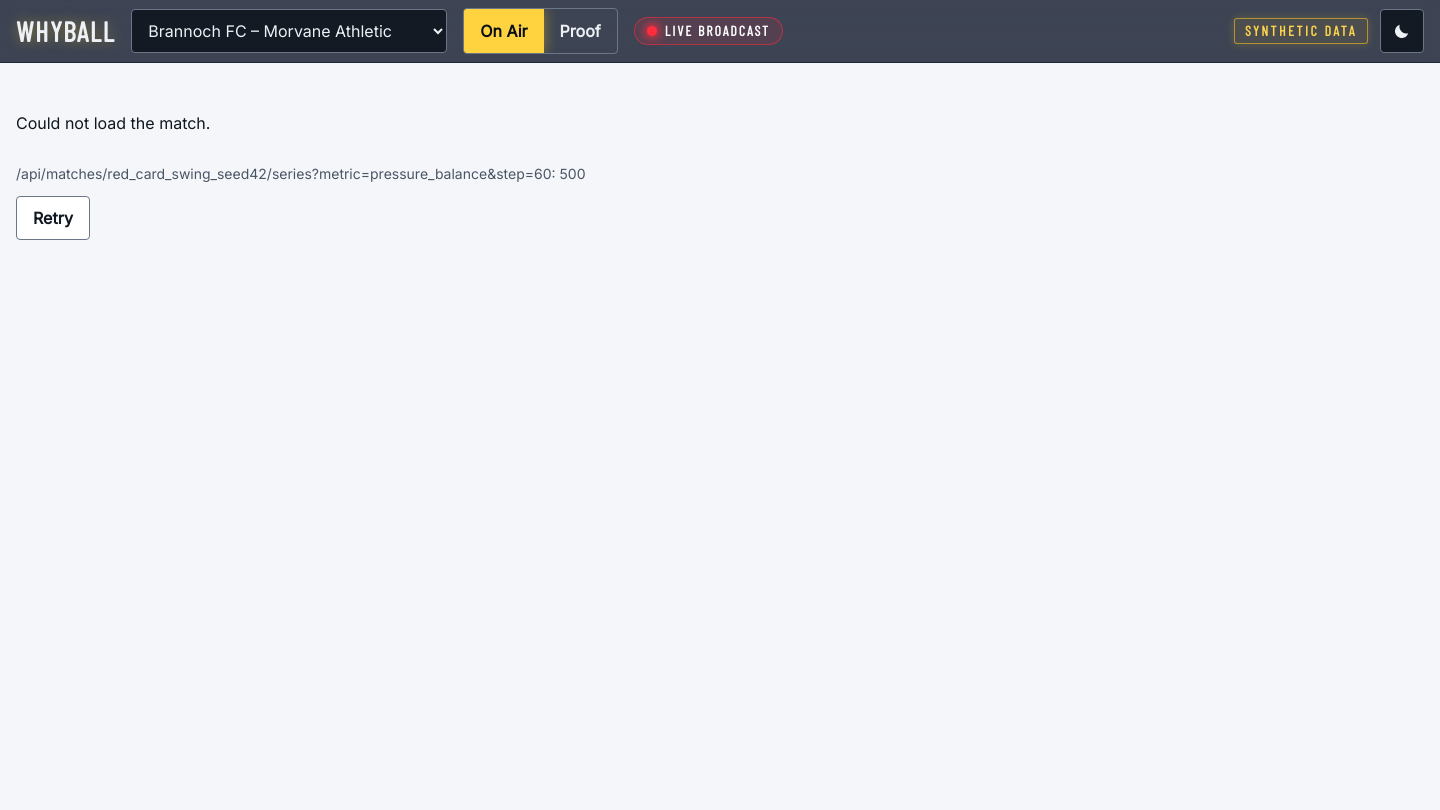
Scenario: routes and states › error: shows the failure and retries
Expected: the message shows "Could not load the match.", [16, 113, 586, 240]
Click the button "Retry" at (53, 218), box [16, 196, 90, 240]
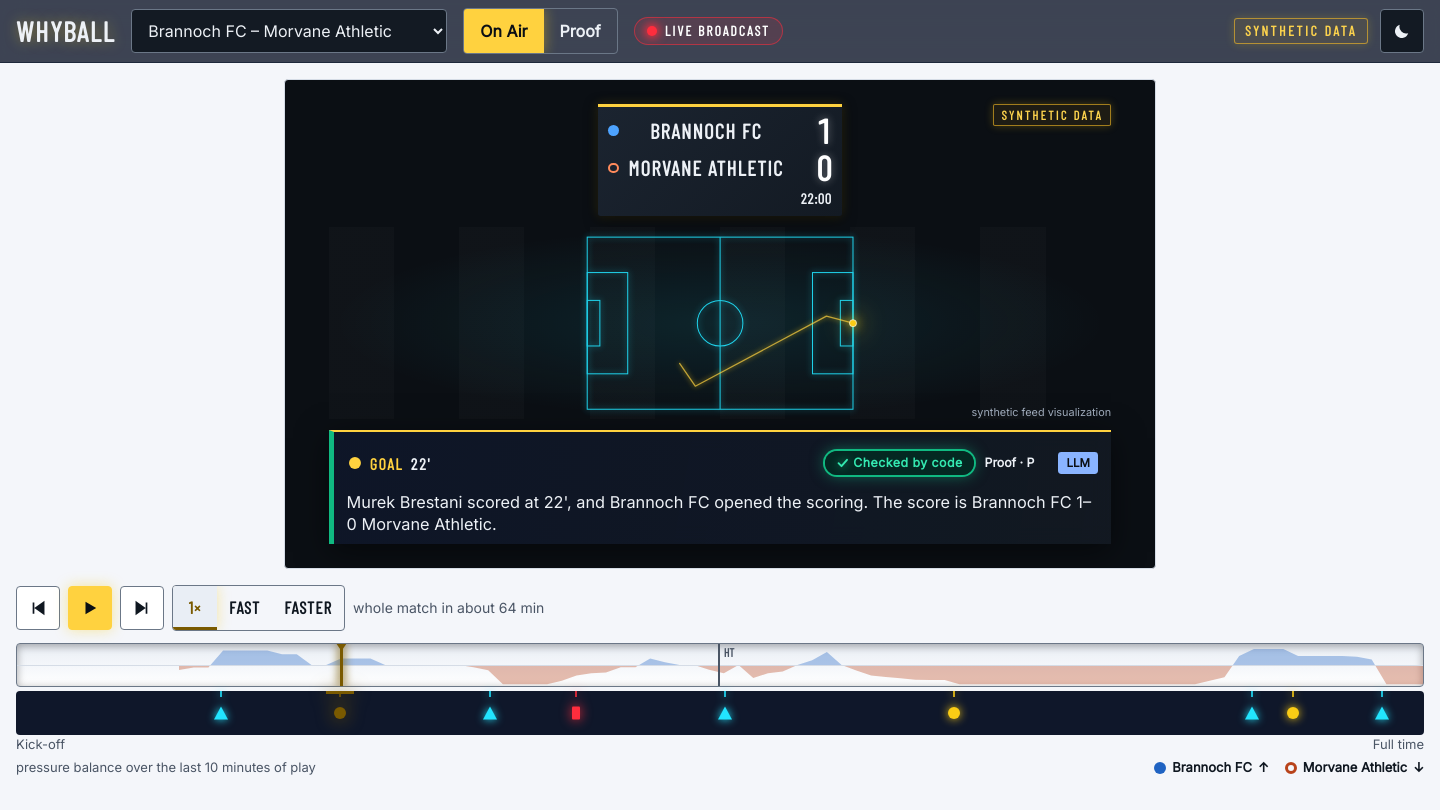
Now the element named "Narration" is shown, box [329, 430, 1111, 544]
